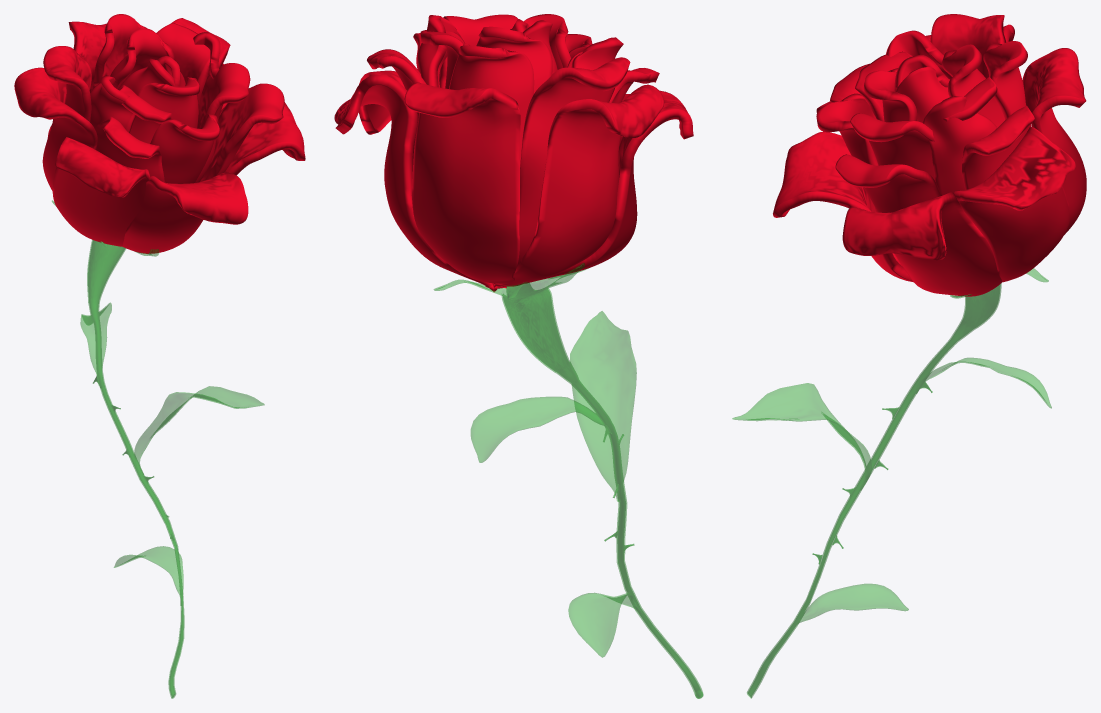
The model's file is rose2.glb.
3 views of the same model, side by side, from view 1: azimuth 30°, elevation 25°; view 2: azimuth 150°, elevation 25°; view 3: azimuth 270°, elevation 25° (orthographic). The views are drawn at different scales.
Parts seen in each view (by area): view 1: petals.001, petals.013, Stem, petals.021; view 2: petals.001, Stem, petals.013, petals.021; view 3: petals.001, petals.013, Stem, petals.021.
Part boxes in pixels (bbox=[...]): petals.001: bbox=[14, 18, 305, 253]; petals.013: bbox=[90, 14, 250, 183]; Stem: bbox=[52, 200, 264, 698]; petals.021: bbox=[118, 56, 199, 128]; petals.001: bbox=[334, 33, 693, 291]; Stem: bbox=[434, 263, 703, 698]; petals.013: bbox=[418, 14, 623, 163]; petals.021: bbox=[510, 14, 570, 73]; petals.001: bbox=[773, 14, 1086, 296]; petals.013: bbox=[816, 30, 1027, 195]; Stem: bbox=[732, 268, 1051, 698]; petals.021: bbox=[863, 54, 949, 123].
Bounding box in the file's own units: 0.1782 × 0.4065 × 0.1902.
